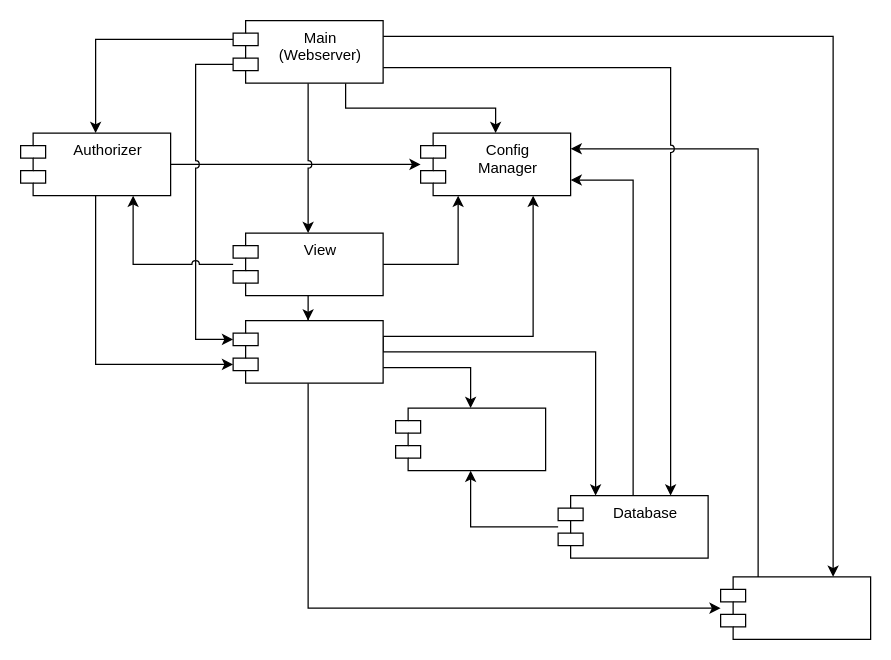
Some shapes in this 891 by 660 pixel diagram are drawn without their labels. Here are the shapes that lost their labels. From the top down, the centre of each, then its label:
[307,351]: Interactors
[470,439]: Entities
[795,607]: Cache
